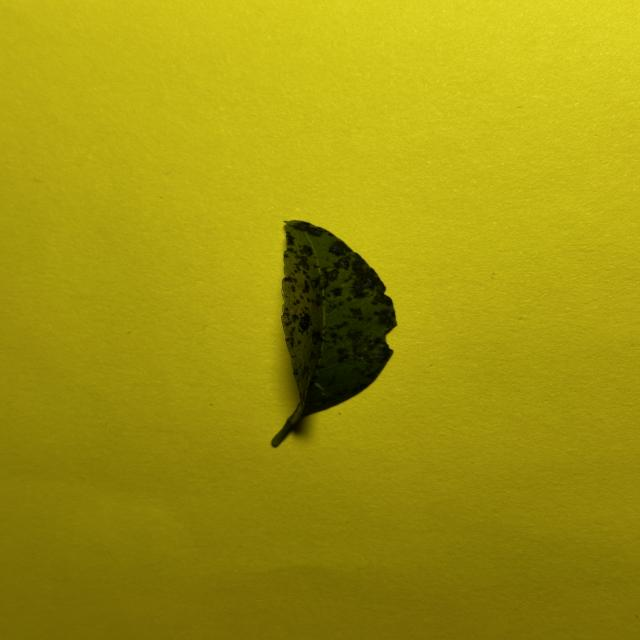sooty_mold: (272, 221, 396, 446)
